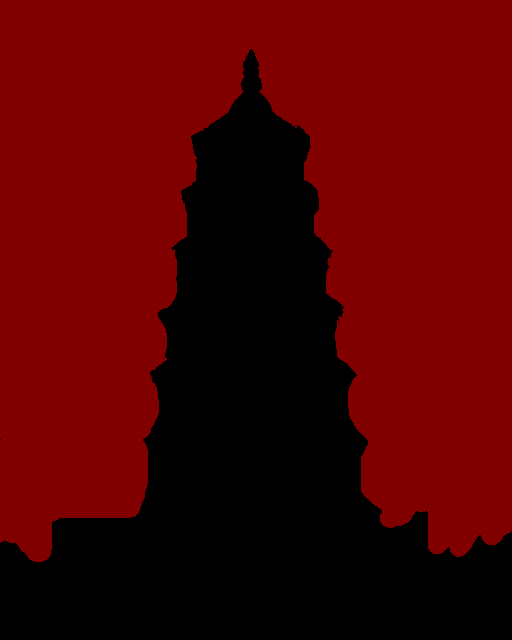Sky: (1, 1, 511, 561)
